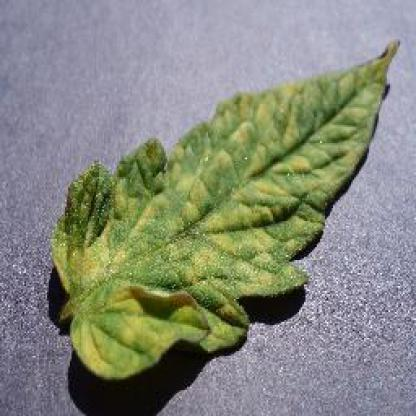bad leaf: (77, 121, 329, 354)
